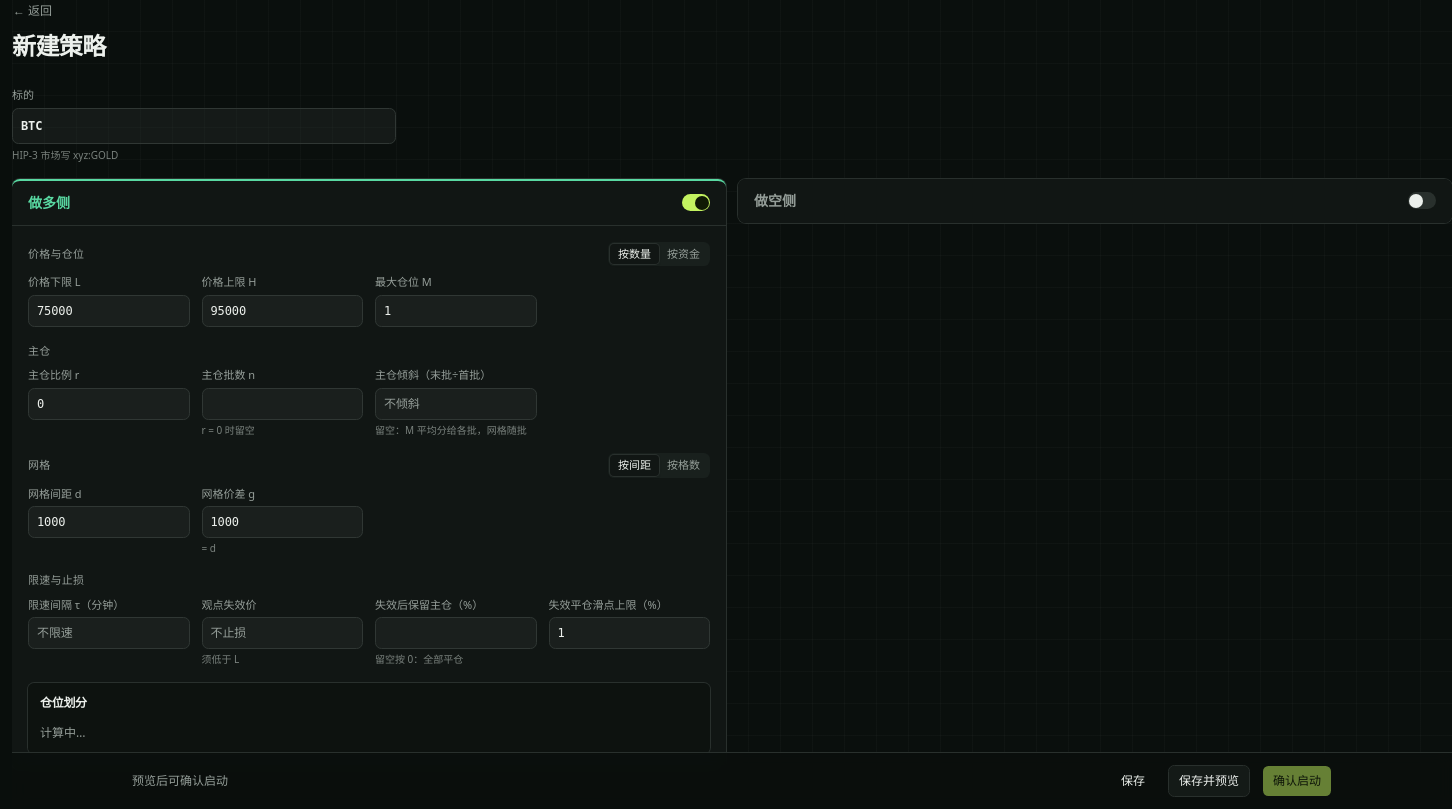
Test: 新建与确认启动 › 中性网格：两侧都勾上，主仓比例按 0 提交且改不了
The image size is (1452, 809).
Click the switch named "启用做空侧". click: (1422, 200)
box: [1408,192,1436,209]
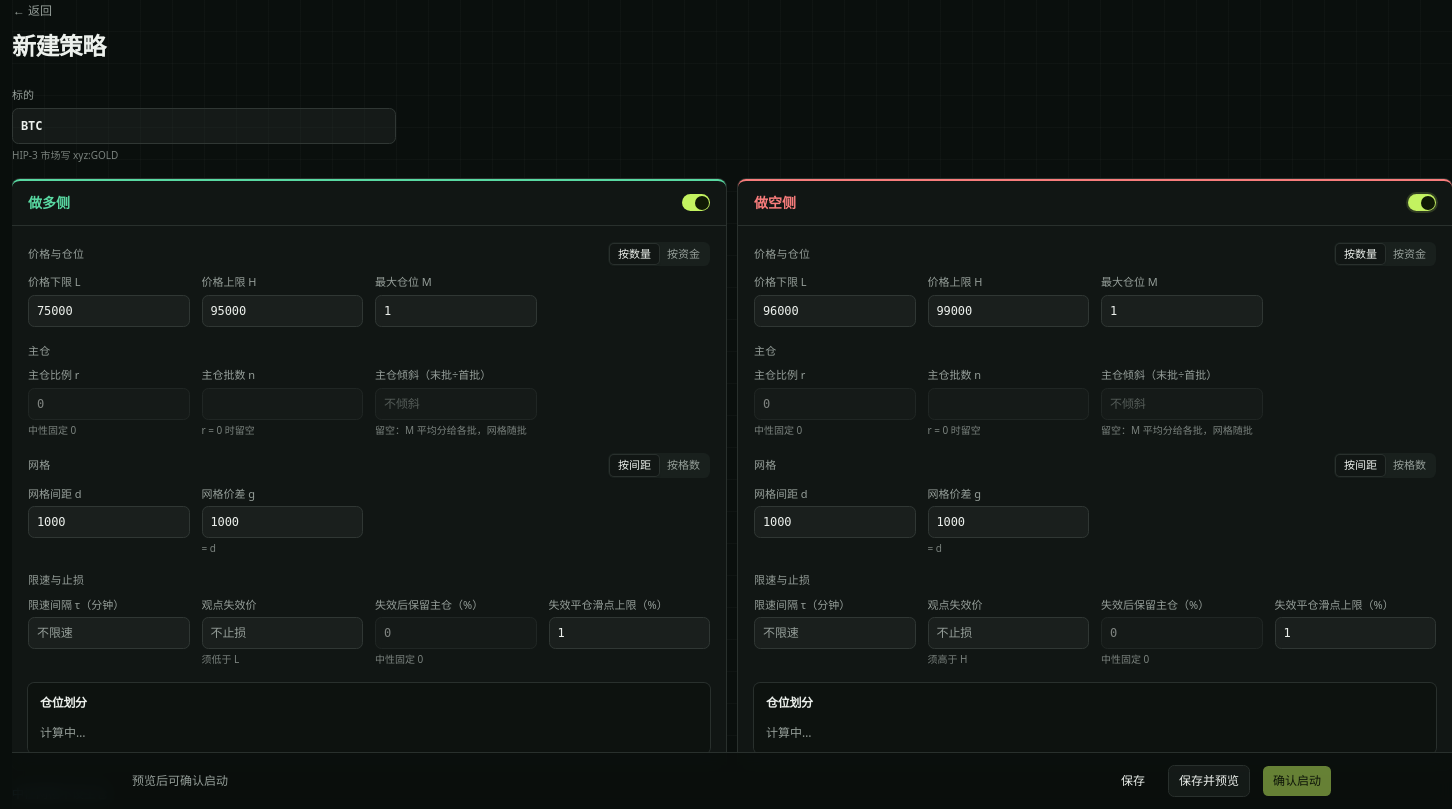
Click the button "保存并预览". click: (1209, 781)
box: [1168,765,1250,797]
(page scrolled)
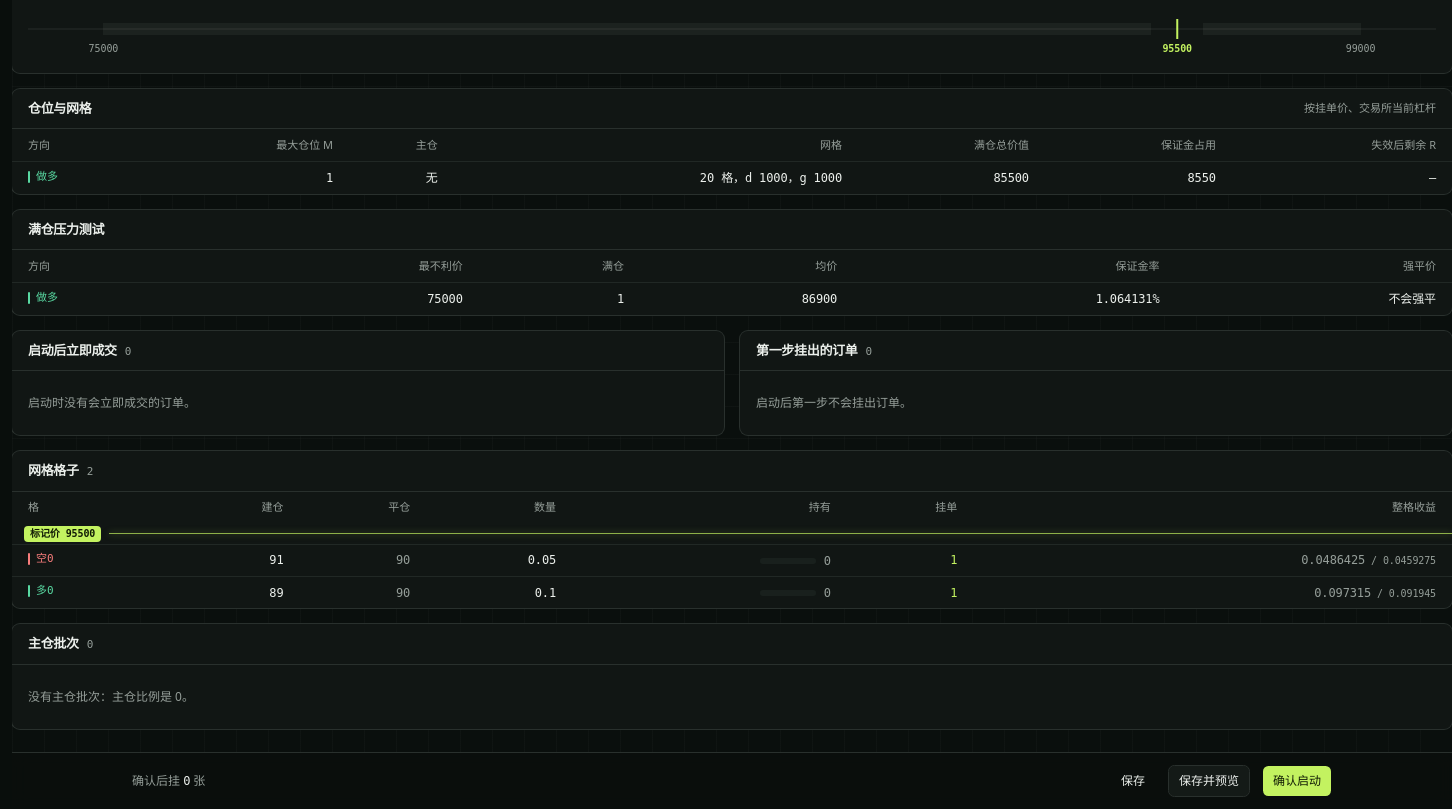
Now the row "空0 91 90 0.05 0 1 0.0486425 / 0.0459275" is shown, box [12,544,1451,576]
Now the row "多0 89 90 0.1 0 1 0.097315 / 0.091945" is shown, box [12,576,1451,608]
